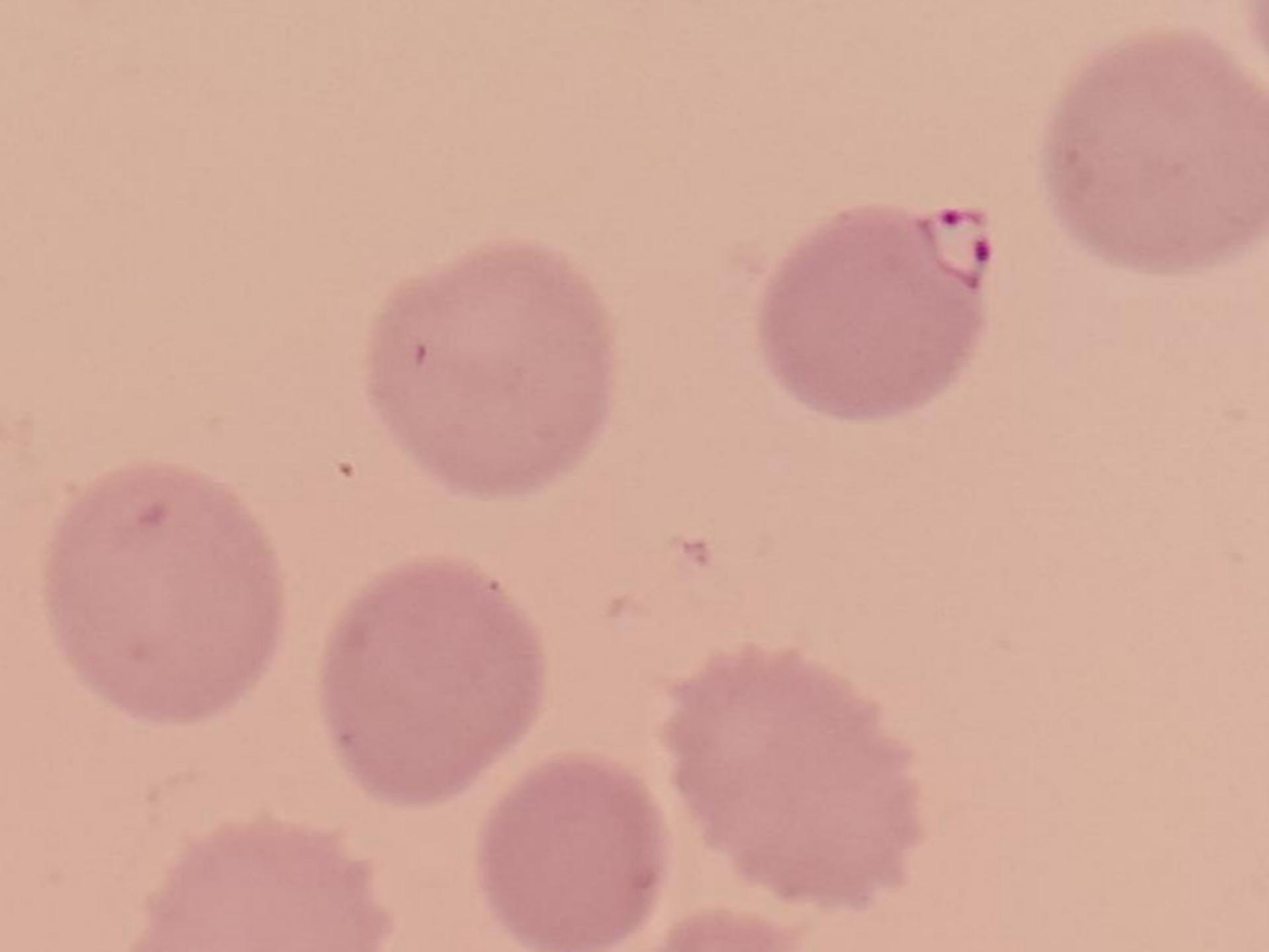Infected: (747, 197, 1002, 423)
Uninfected: (359, 230, 615, 507), (657, 642, 921, 904), (40, 470, 281, 726), (320, 553, 542, 807), (1038, 36, 1269, 276), (134, 805, 389, 952), (471, 752, 658, 952)
